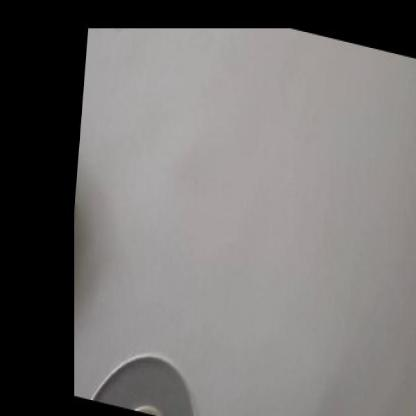light_off: (82, 300, 214, 415)
